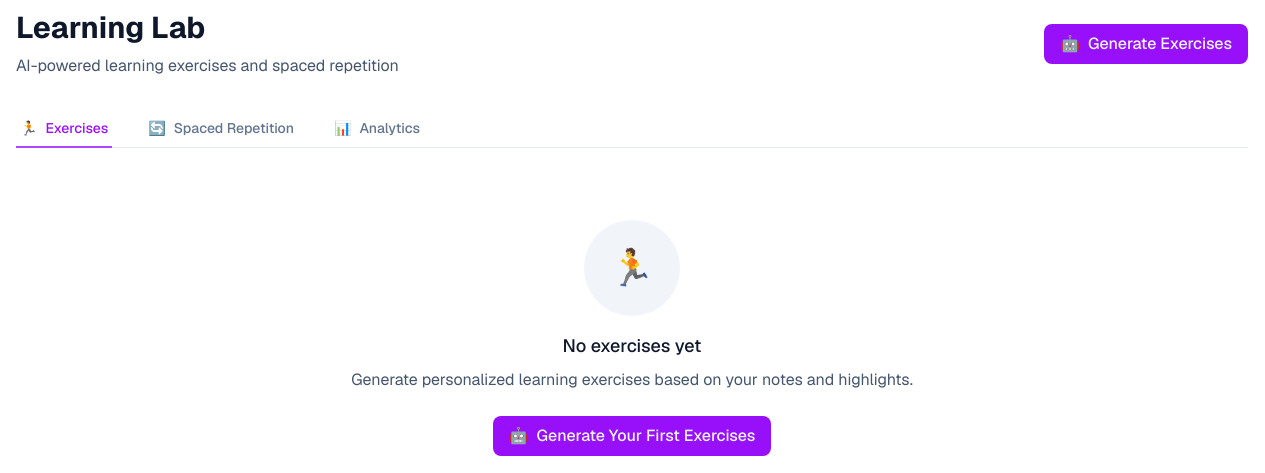
Scenario: LearningLabView › switches to analytics tab when clicked
Click the button "📊Analytics".
click(377, 129)  # box [330,110,424,148]
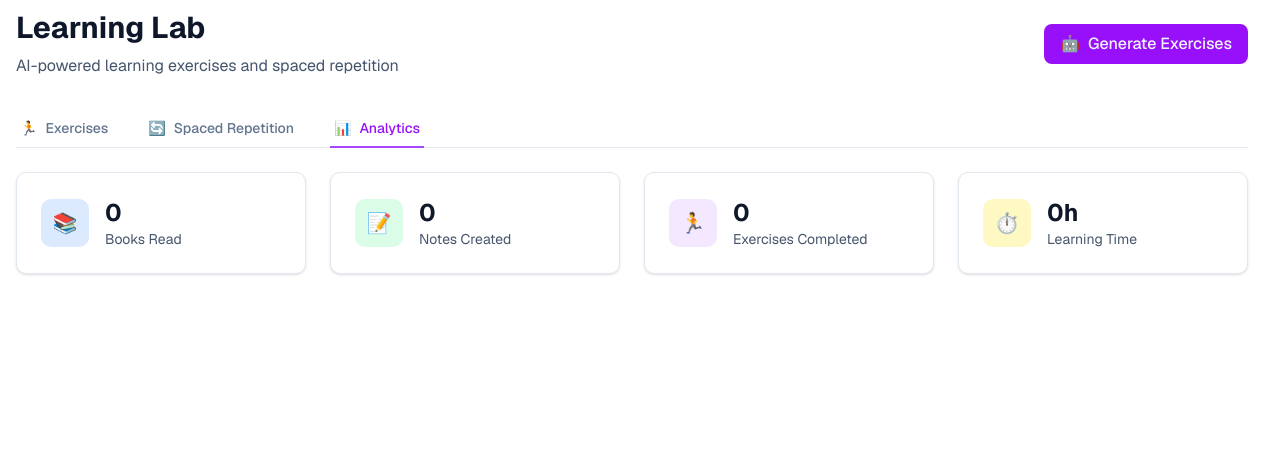
Now the text "Books Read" is shown, box [105,229,182,249]
Now the text "Notes Created" is shown, box [419,229,511,249]
Now the text "Exercises Completed" is shown, box [733,229,868,249]
